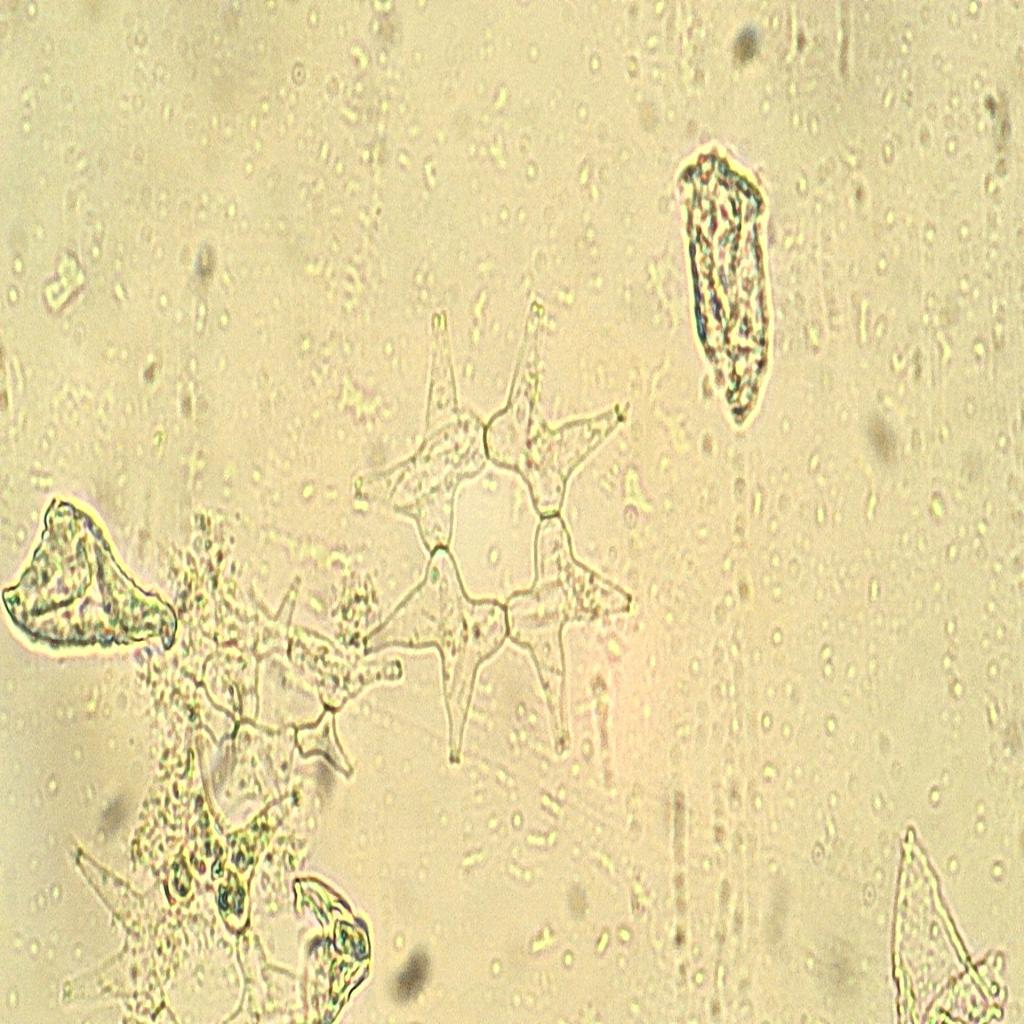Pediastrum_1F0: (329, 289, 663, 781)
